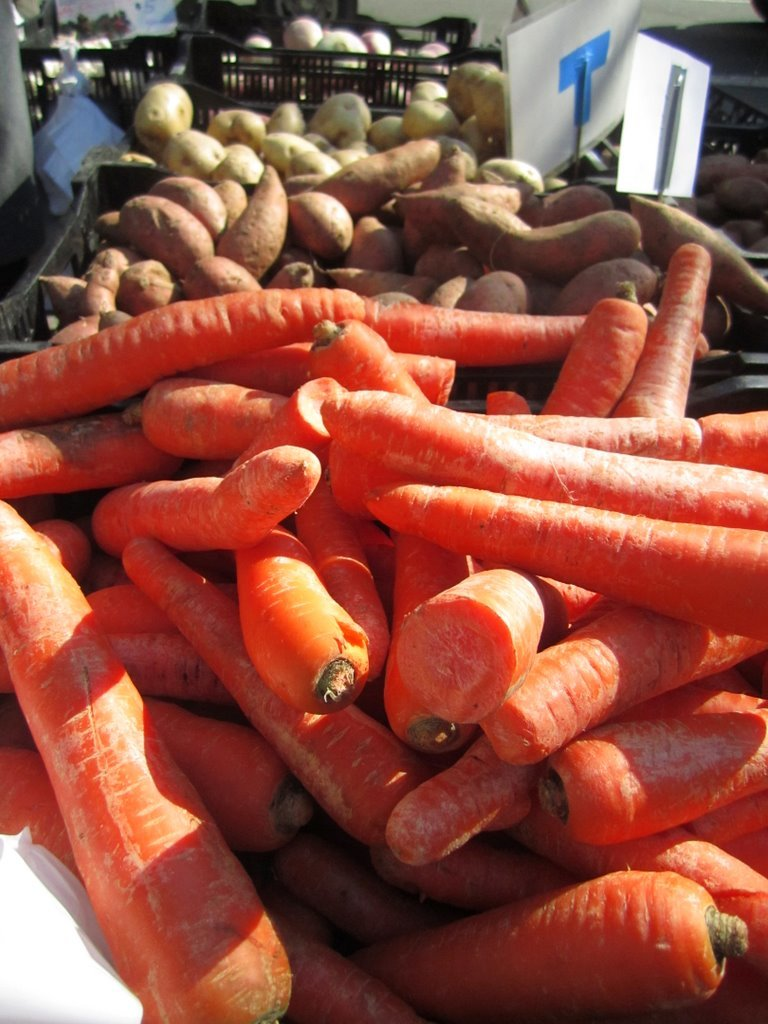Carrot: (0, 242, 767, 1023)
